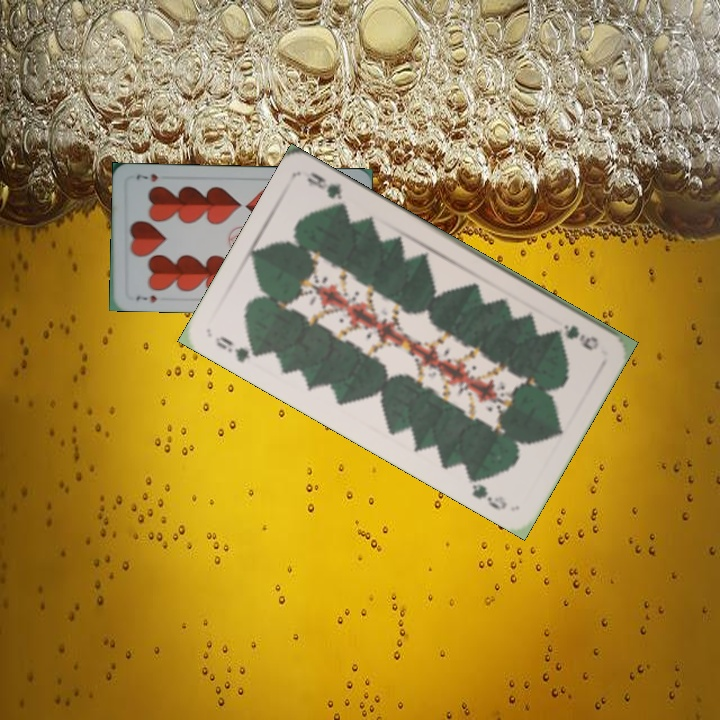G9: (211, 332, 266, 366), (559, 320, 602, 353)
H7: (132, 291, 159, 305)
